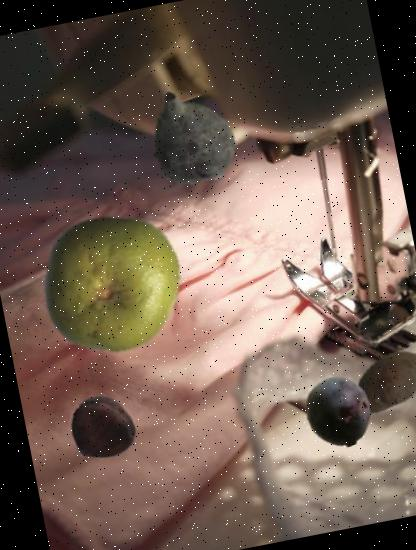Beetroot: (119, 62, 256, 199)
Chestnut: (63, 392, 140, 468)
Plum: (296, 369, 382, 455)
Pomelo: (29, 201, 194, 366)
Potato: (337, 331, 416, 435)
